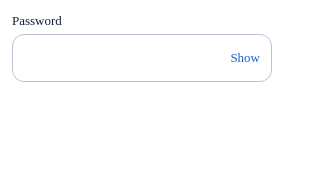
TextField › hides a secureToggle field's text until Show is pressed, then Hide hides it again
Later steps or results of the test are not shown.
Click the button with aria-label "Show password".
click(245, 58)  # box [218,36,272,80]
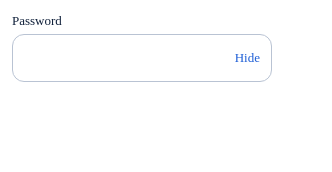
Expected: the text "Hide" is shown, [235,49,260,67]
